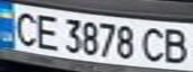3: (57, 16, 84, 55)
7: (97, 20, 118, 58)
8: (115, 21, 142, 61), (78, 18, 100, 56)
B: (157, 26, 193, 65)
C: (9, 8, 42, 47), (139, 25, 172, 63)
E: (30, 11, 63, 52)
